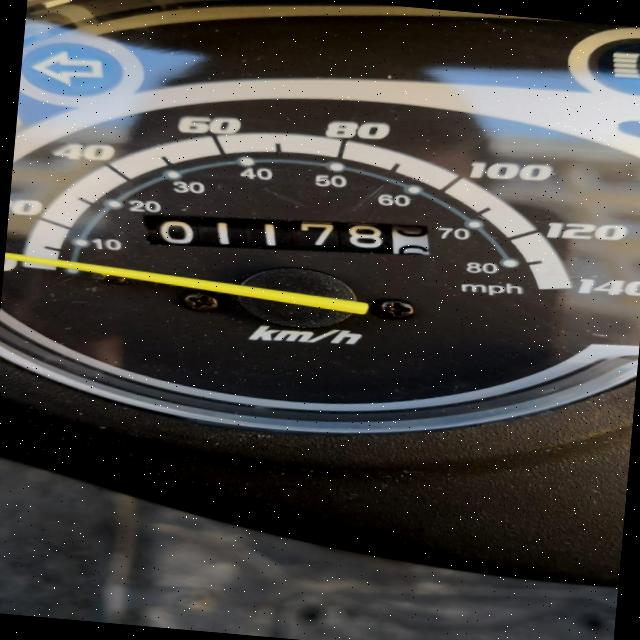odometer: (138, 196, 440, 272)
